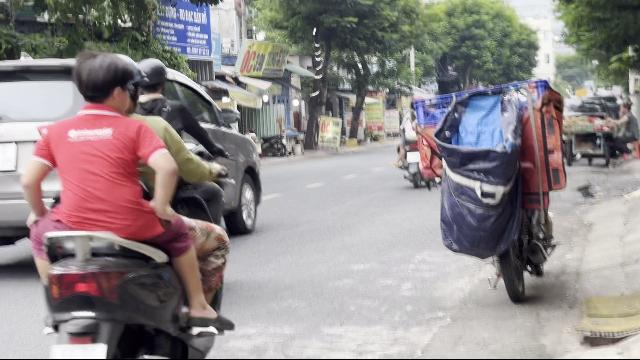helmet: (136, 56, 168, 94)
motorcyclist: (16, 52, 238, 354)
nohelmet: (70, 52, 138, 116)
